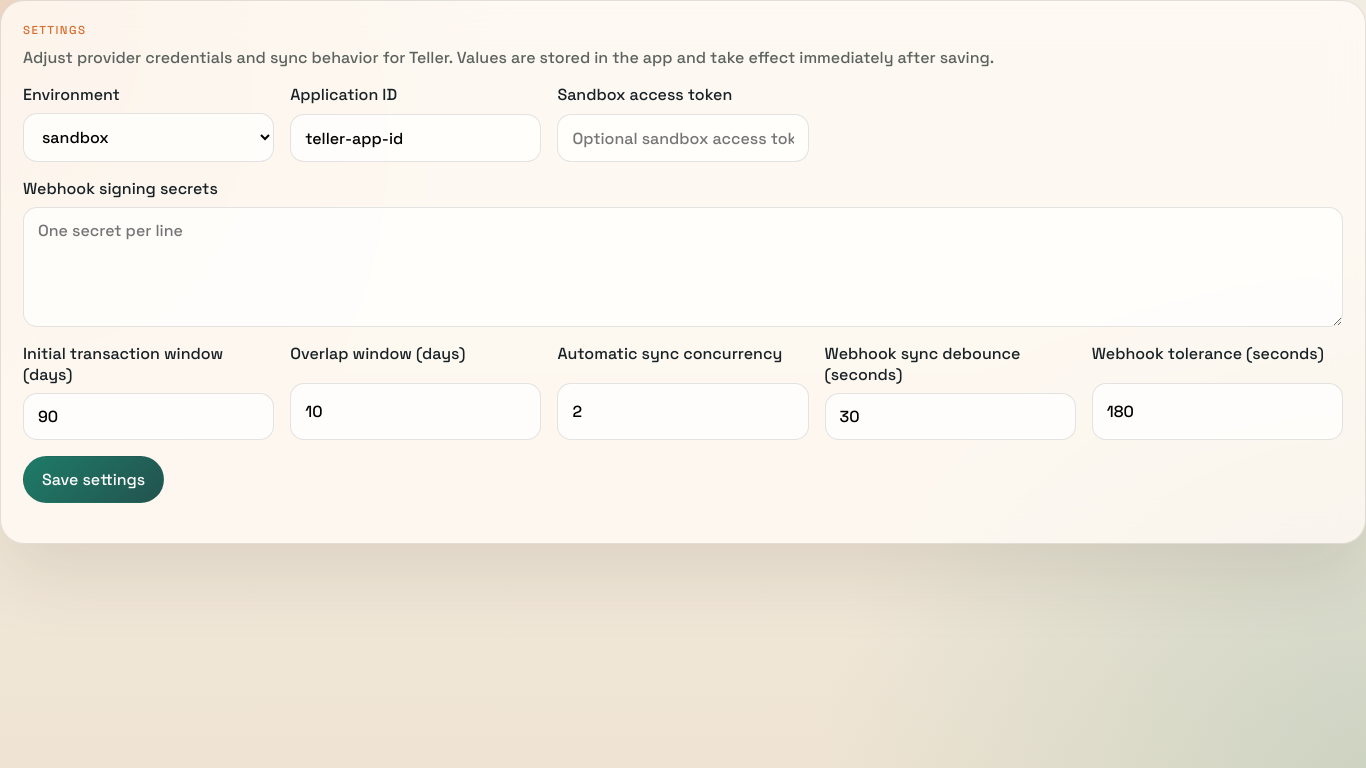
Test: ProviderSettingsPanel › shows a friendly API error when saving provider settings fails
Click the button "Save settings". click: (94, 480)
box: [23,456,164,503]
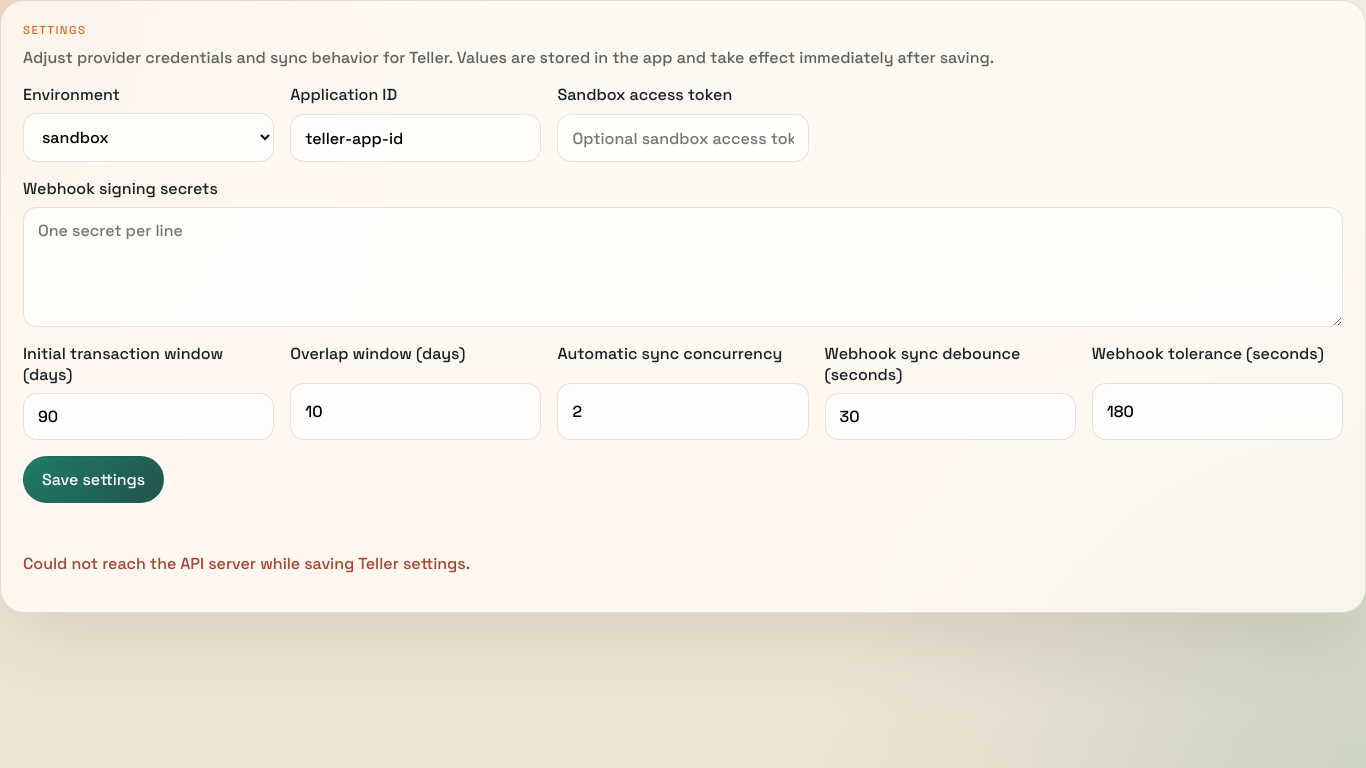
Result: the text "Could not reach the API server while saving Teller settings." is shown at [23,553,470,574]
